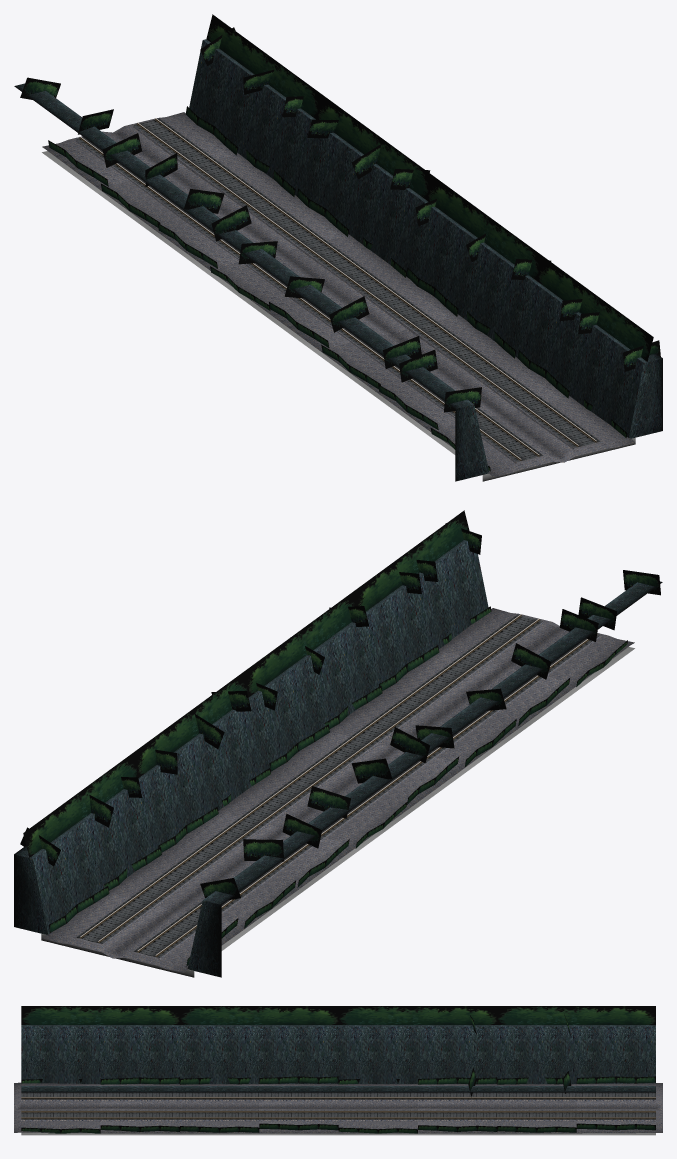
Rendered from 2RAIL_KYO_3.glb.
3 renders of one model, top to bottom at view 1: azimuth 30°, elevation 25°; view 2: azimuth 150°, elevation 25°; view 3: azimuth 270°, elevation 25°, orthographic. The views are drawn at different scales.
Parts seen in each view (by area): view 1: frame01, bone_3c, bone_7c, bone_1c, bone_5c, bone_6c, bone_2c, bone_0c, bone_4c; view 2: frame01, bone_3b, bone_1b, bone_7b, bone_5b, bone_2b, bone_6b, bone_0b, bone_4b; view 3: frame01.
Part boxes in pixels (left/top/right/bottom): frame01: left=14, top=14, right=662, bottom=481; bone_3c: left=184, top=144, right=430, bottom=241; bone_7c: left=399, top=312, right=660, bottom=412; bone_1c: left=78, top=69, right=303, bottom=167; bone_5c: left=284, top=233, right=551, bottom=332; bone_6c: left=383, top=299, right=582, bottom=368; bone_2c: left=145, top=119, right=338, bottom=186; bone_0c: left=20, top=27, right=235, bottom=99; bone_4c: left=238, top=199, right=436, bottom=264; frame01: left=14, top=510, right=662, bottom=977; bone_3b: left=195, top=690, right=430, bottom=783; bone_1b: left=89, top=777, right=321, bottom=861; bone_7b: left=416, top=523, right=660, bottom=630; bone_5b: left=305, top=606, right=551, bottom=710; bone_2b: left=155, top=749, right=350, bottom=818; bone_6b: left=399, top=572, right=598, bottom=641; bone_0b: left=20, top=827, right=240, bottom=900; bone_4b: left=256, top=683, right=454, bottom=748; frame01: left=14, top=1006, right=662, bottom=1135.
Size of the model in its own units: 58.21 by 25.71 by 205.
Materials: 22 (21 with a texture image).
